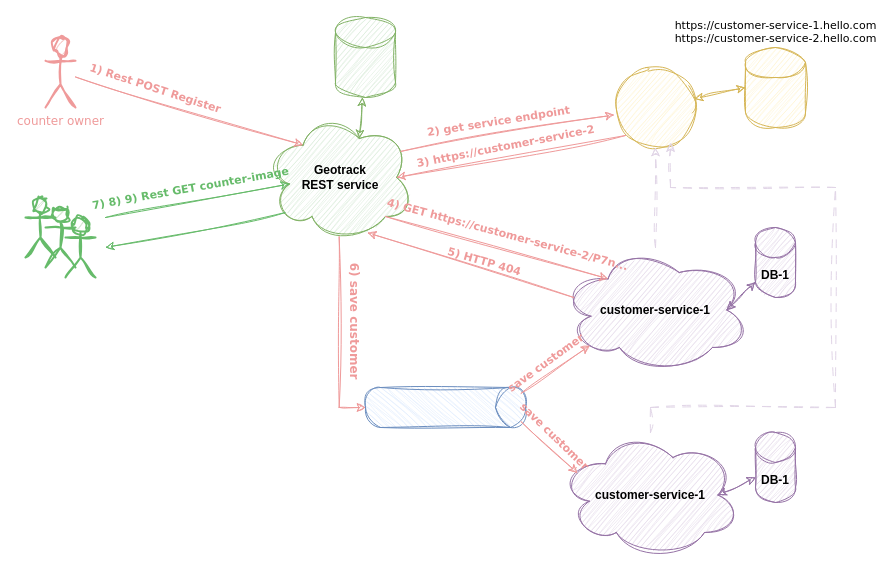
This 894x575 diagram has some shape labels left out. Each missing label, with the centre of its shape:
DB: pixel 365 57
KAFKA: pixel 445 407
service registry: pixel 655 107
web site visitors: pixel 80 247
